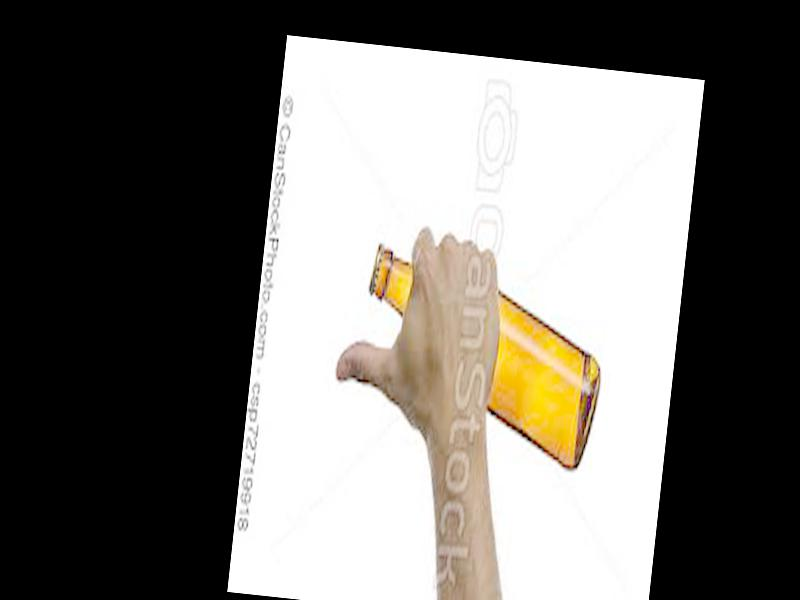Beer: (353, 246, 611, 473)
